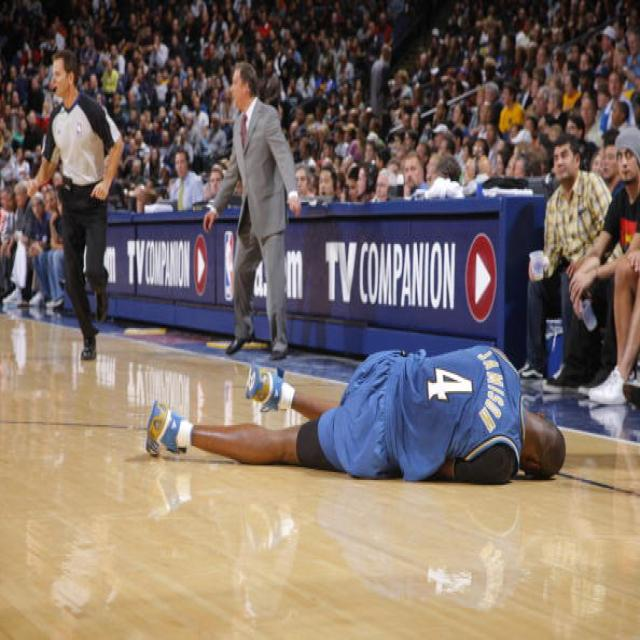10-: (0, 0, 639, 498)
down: (142, 333, 567, 494)
